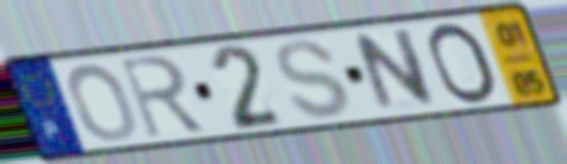2: (208, 43, 286, 134)
N: (350, 25, 440, 116)
O: (425, 20, 503, 108), (65, 61, 139, 144)
R: (115, 52, 211, 142)
S: (270, 37, 353, 122)
